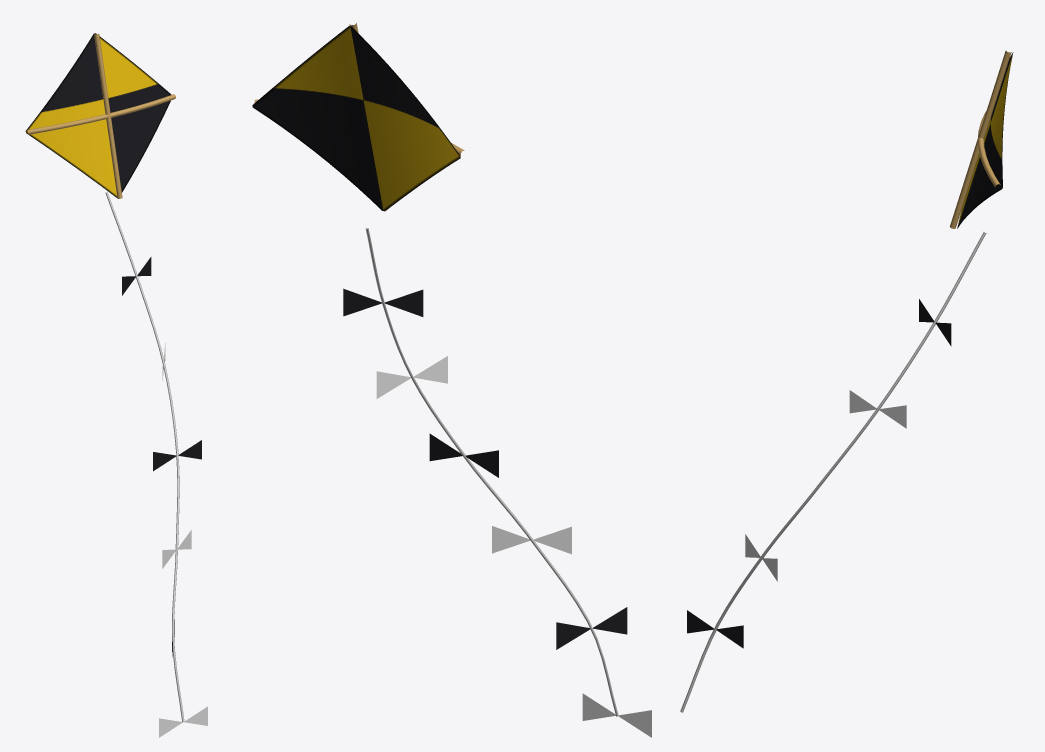
The model's file is capucheta-5.glb.
3 views of the same model, side by side, from view 1: azimuth 30°, elevation 25°; view 2: azimuth 150°, elevation 25°; view 3: azimuth 270°, elevation 25° (orthographic). The views are drawn at different scales.
Visible parts, largest first — view 1: capucheta-5; view 2: capucheta-5; view 3: capucheta-5.
Boxes of the visible parts, x1,y1,x2,y2 form: capucheta-5: (25, 33, 207, 737); capucheta-5: (252, 23, 651, 737); capucheta-5: (680, 50, 1013, 712).
Bounding box in the file's own units: 0.7882 × 2.98 × 1.35.
Materials: 5 (1 with a texture image).
